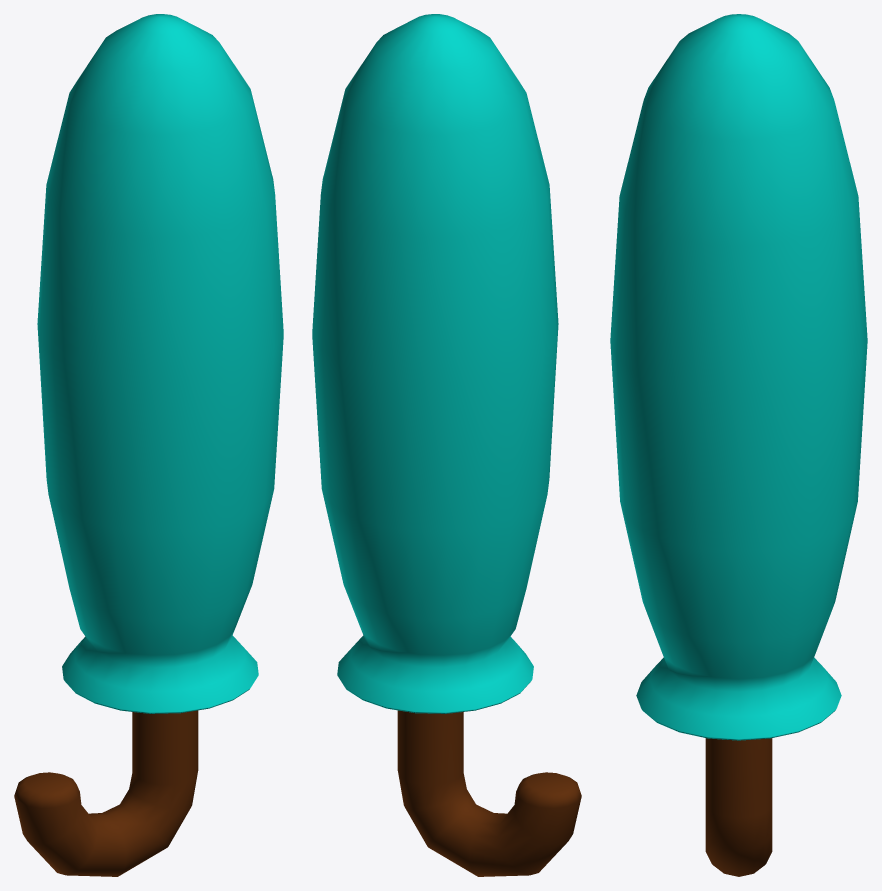
File: Umbrella.fbx
3 renders of one model, left to right at view 1: azimuth 30°, elevation 25°; view 2: azimuth 150°, elevation 25°; view 3: azimuth 270°, elevation 25°, orthographic. The views are drawn at different scales.
Parts seen in each view (by area): view 1: Umbrella1, Umbrella2; view 2: Umbrella1, Umbrella2; view 3: Umbrella1, Umbrella2.
Boxes of the visible parts, bbox=[...] form: Umbrella1: bbox=[37, 14, 283, 713]; Umbrella2: bbox=[14, 710, 198, 876]; Umbrella1: bbox=[312, 14, 558, 713]; Umbrella2: bbox=[397, 710, 581, 876]; Umbrella1: bbox=[610, 14, 867, 740]; Umbrella2: bbox=[705, 738, 772, 876].
Bounding box in the file's own units: 1.7 × 5.49 × 1.46.
